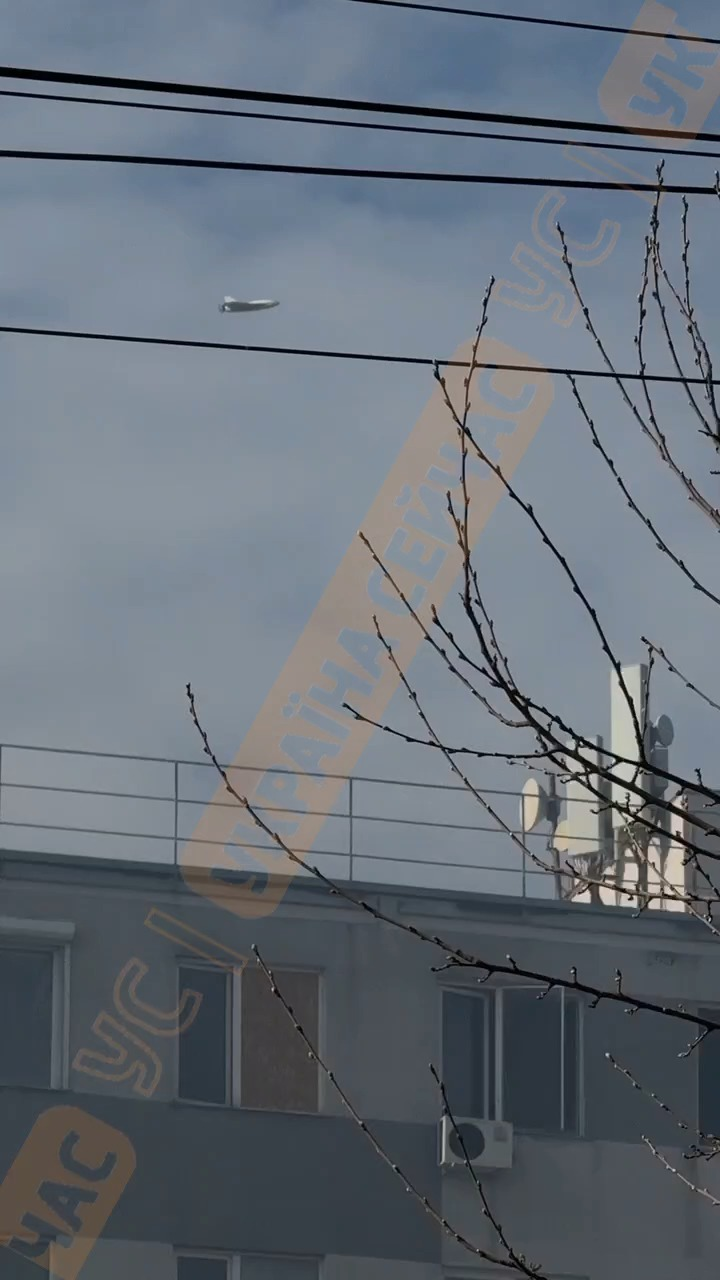shahed: (213, 291, 289, 319)
